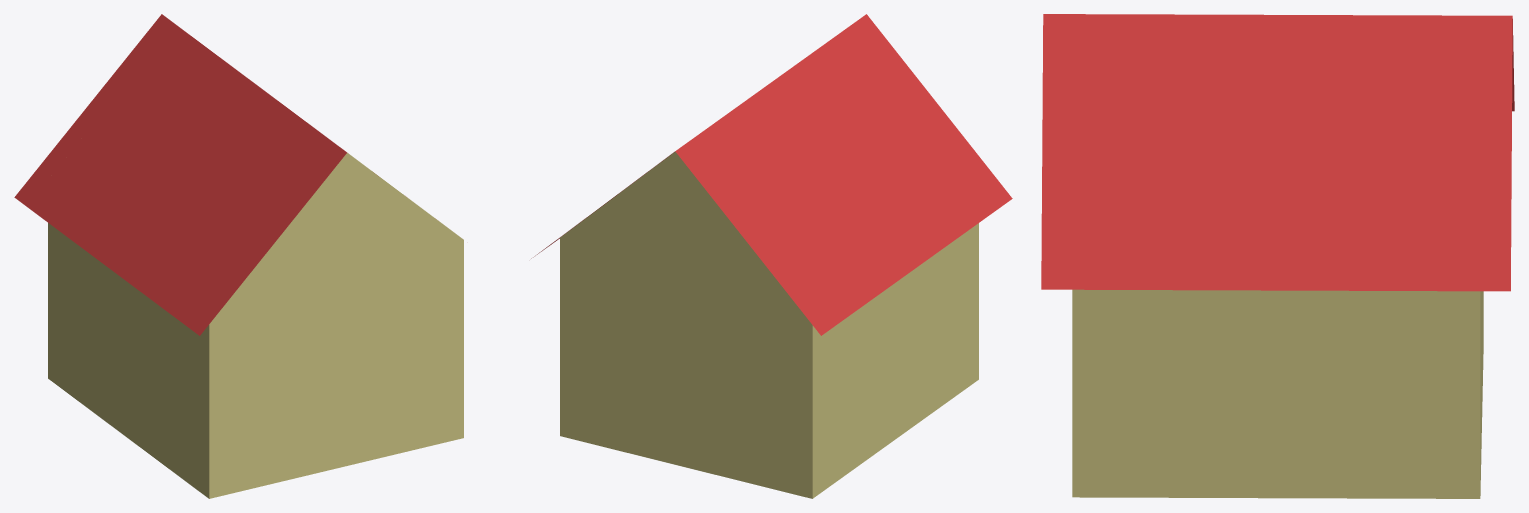
3 views of the same model, side by side, from view 1: azimuth 30°, elevation 25°; view 2: azimuth 150°, elevation 25°; view 3: azimuth 270°, elevation 25° (orthographic). The views are drawn at different scales.
Bounding box in the file's own units: 10.51 × 11.56 × 10.92.
